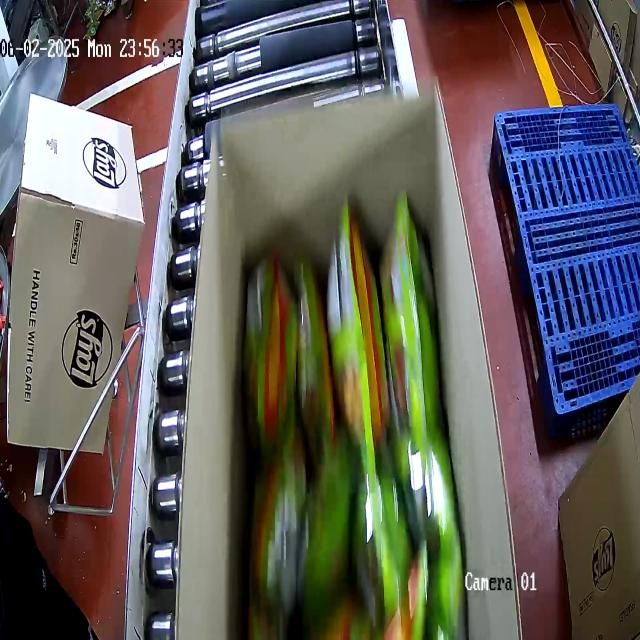YOGURT_HERB: (230, 198, 458, 640)
